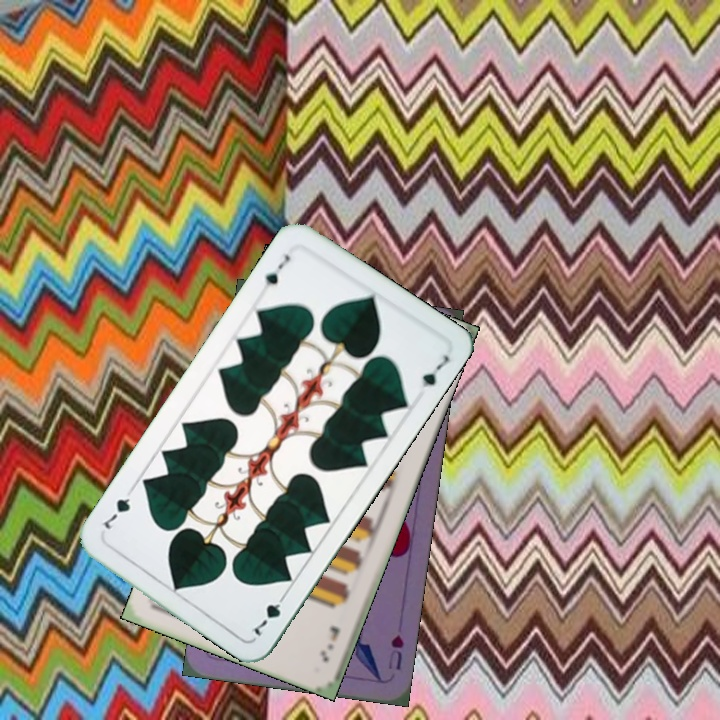E7: (316, 621, 343, 665)
G7: (246, 588, 290, 639), (257, 250, 293, 297)
HU: (384, 631, 407, 673)
